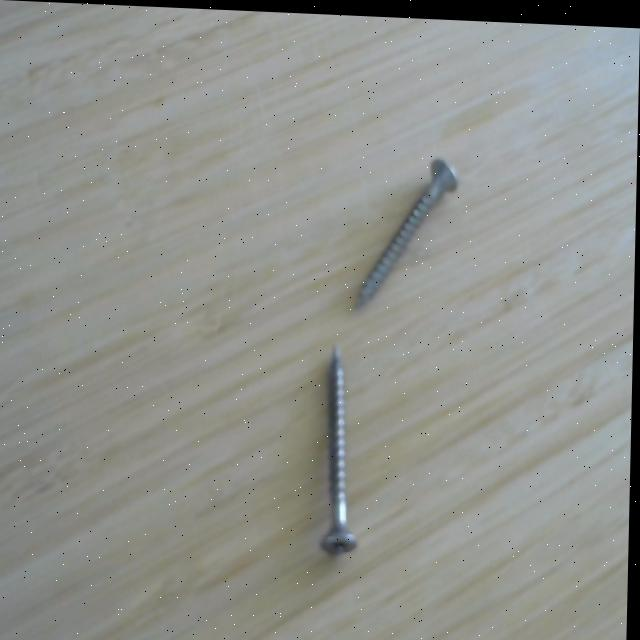Black screw: (348, 143, 469, 316), (313, 333, 361, 557)
